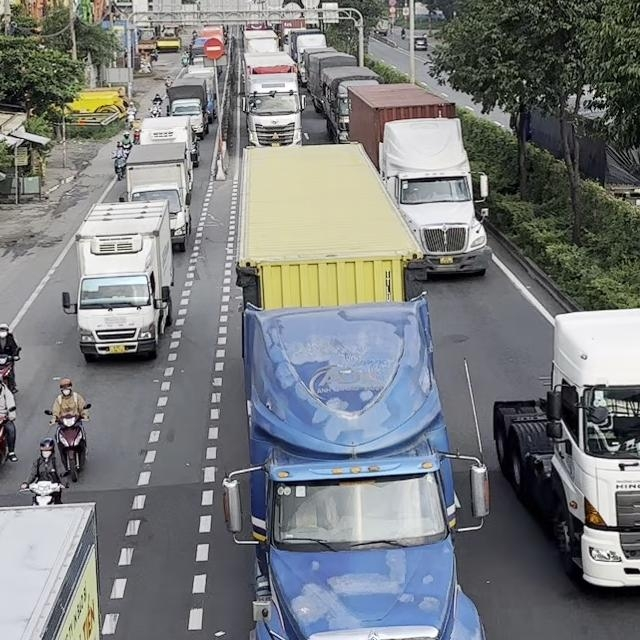motorcycle: (44, 403, 91, 482), (19, 438, 69, 505), (19, 478, 68, 506), (0, 404, 17, 471), (0, 347, 21, 393), (110, 151, 127, 181)
truck: (221, 144, 490, 639), (492, 306, 639, 591), (348, 82, 491, 278), (61, 199, 174, 362), (0, 501, 101, 639), (118, 142, 193, 251), (242, 52, 305, 147), (321, 67, 385, 144), (138, 116, 200, 167), (310, 54, 358, 115), (167, 78, 208, 140)
